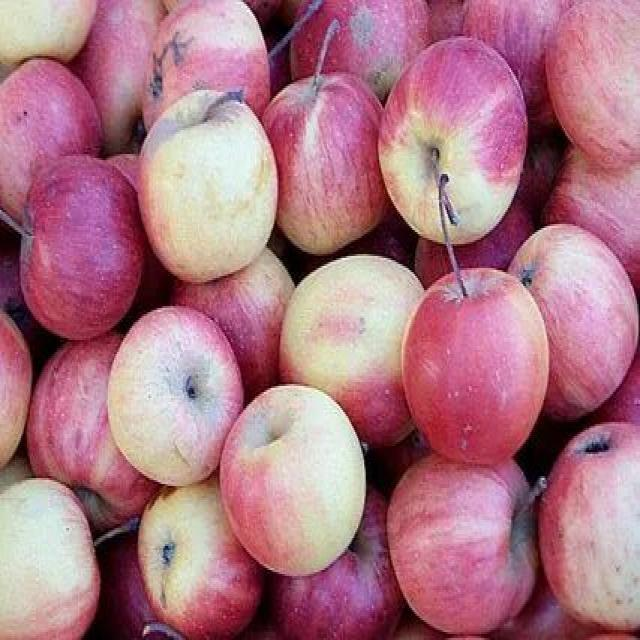Fresh Apple: (215, 378, 367, 578), (377, 45, 523, 253), (285, 244, 423, 438), (495, 225, 632, 415), (138, 105, 278, 282), (530, 416, 640, 640), (415, 273, 545, 460), (15, 153, 137, 347), (390, 460, 528, 625), (120, 308, 237, 487), (268, 73, 385, 250), (134, 480, 258, 637), (5, 55, 97, 228)
